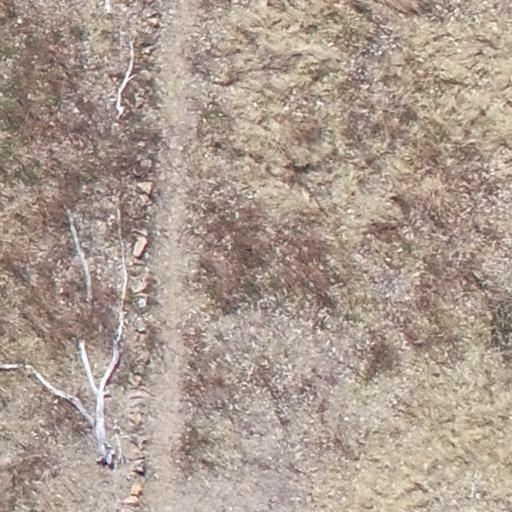stone: (127, 245, 152, 313), (130, 238, 151, 261), (122, 484, 142, 508), (129, 454, 146, 474), (0, 361, 28, 372), (136, 194, 154, 208), (146, 12, 161, 28), (135, 184, 155, 196), (136, 350, 150, 366), (129, 412, 143, 427), (132, 226, 148, 239), (131, 374, 143, 388)
